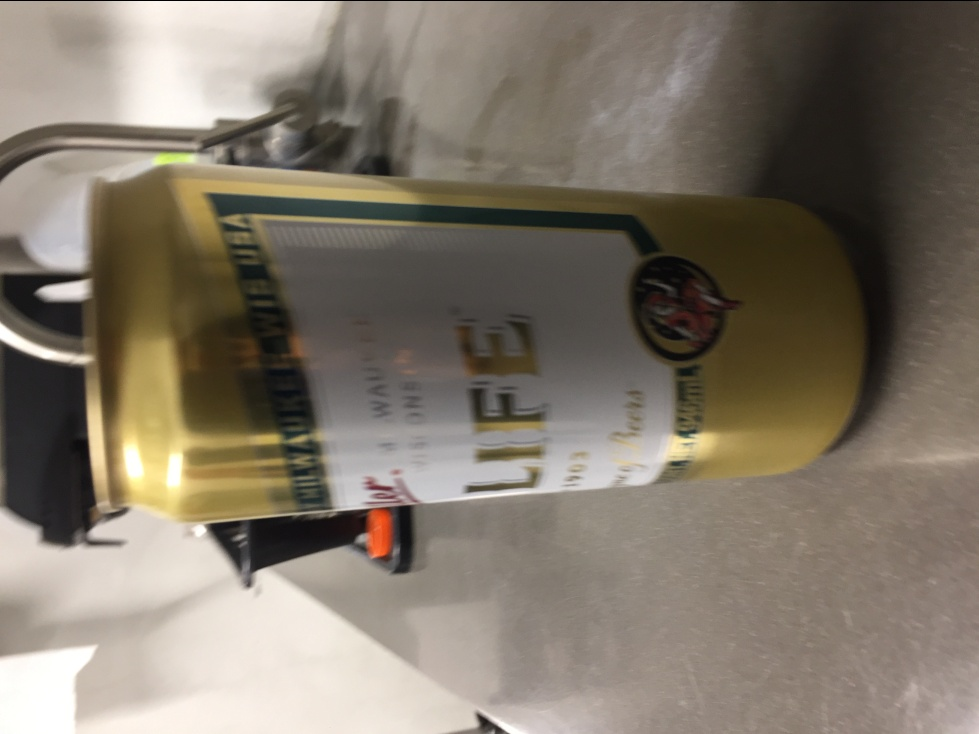miller: (75, 156, 878, 527)
